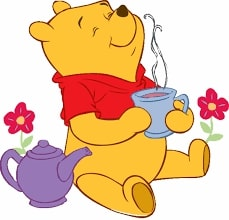Winnie: (23, 1, 168, 97)
